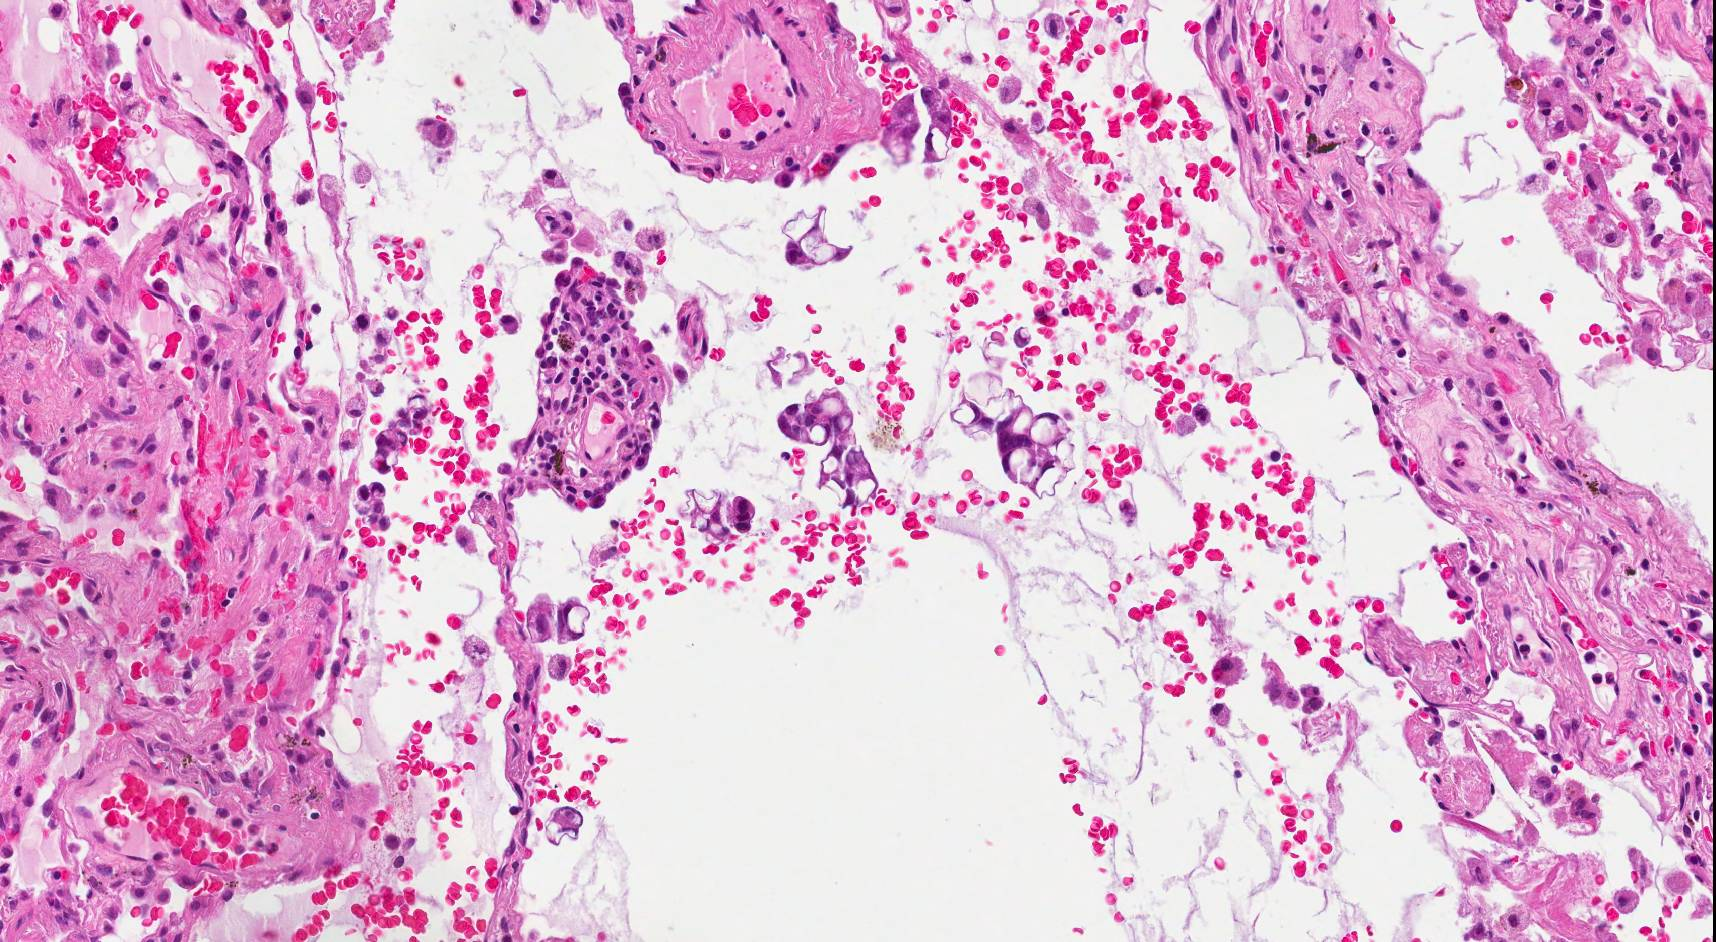stas: (947, 368, 1090, 506), (775, 383, 890, 516), (884, 87, 963, 166), (775, 211, 863, 277), (685, 478, 762, 545), (527, 578, 593, 652), (538, 804, 590, 851)
